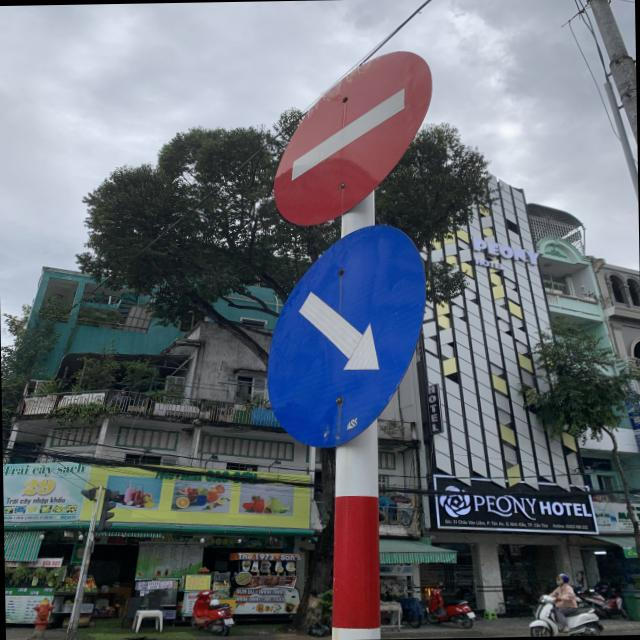Cam_Di_Nguoc_Chieu: (269, 49, 434, 229)
Chi_Huong_Di_Phai: (256, 230, 438, 448)
